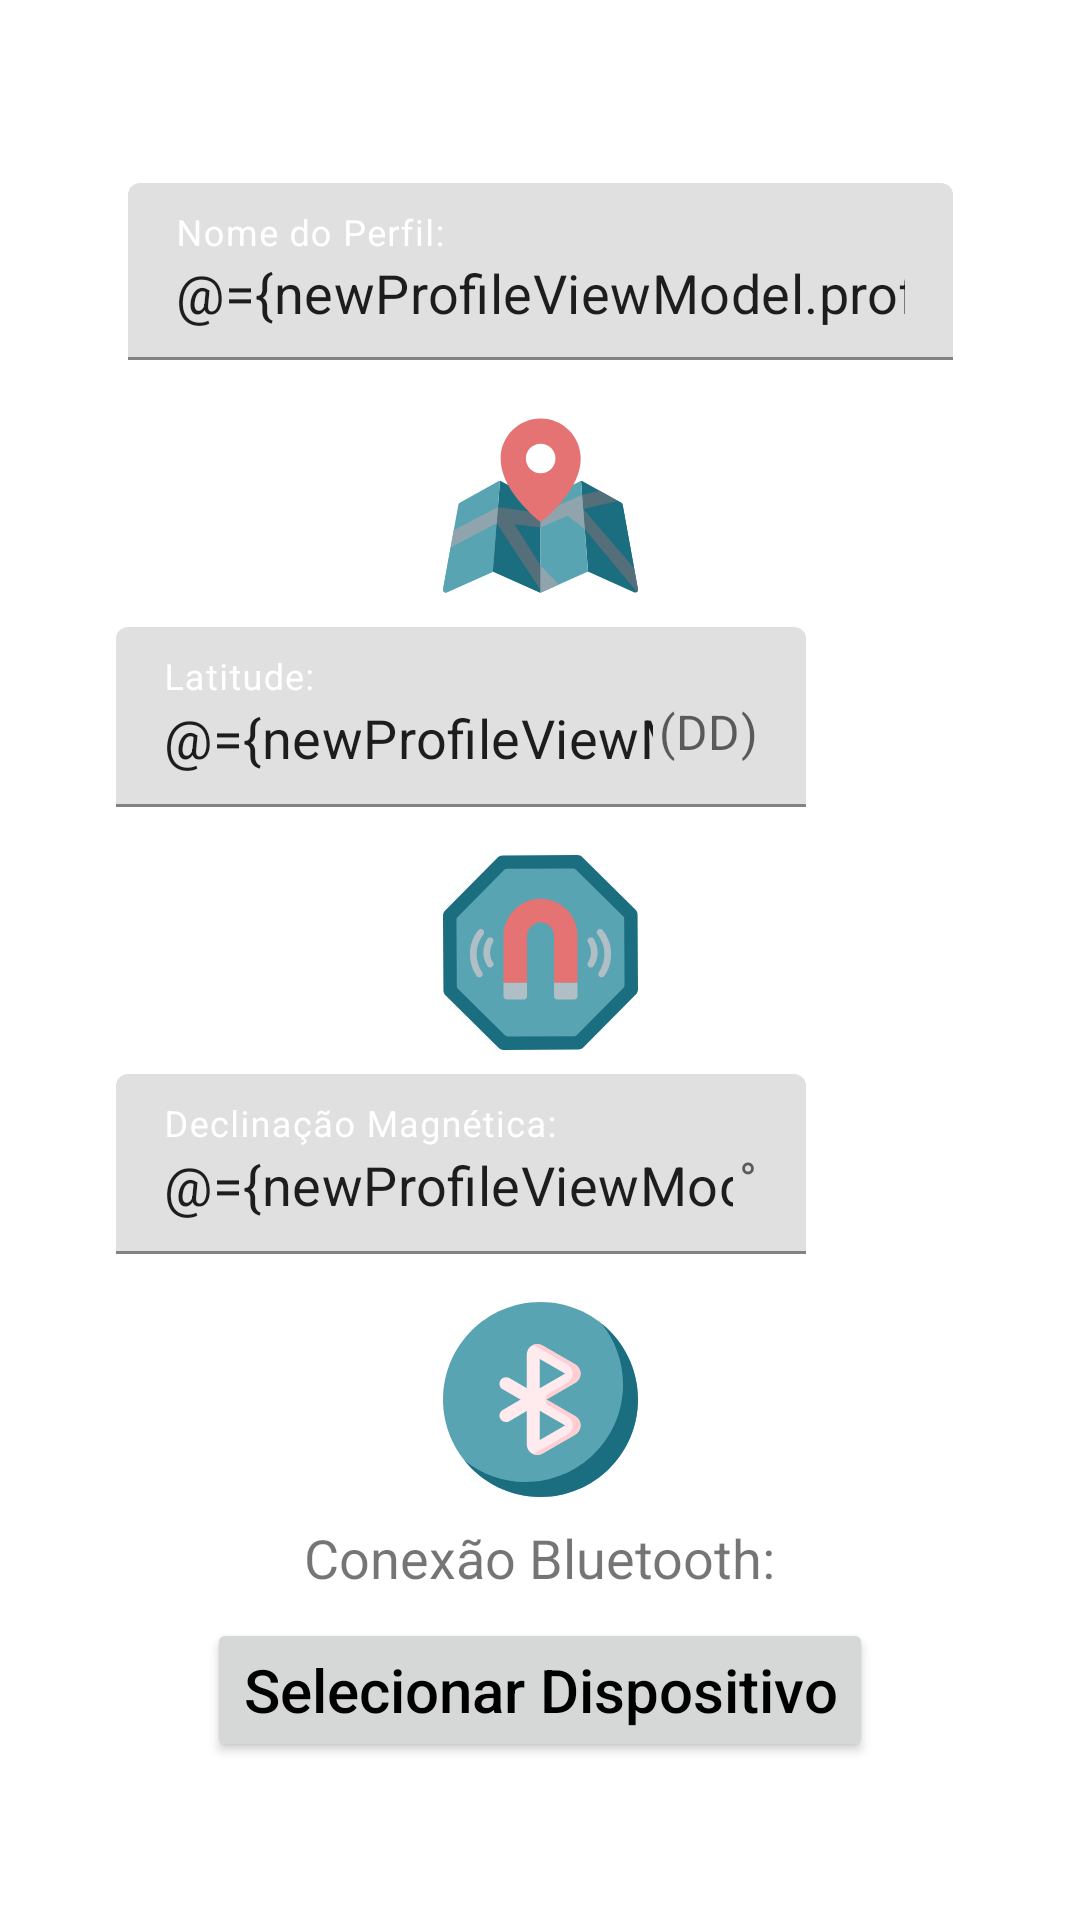

Icons on this 1080px×1920px Android screen, each with the point to tap as point (x, y):
map: point (540, 505)
